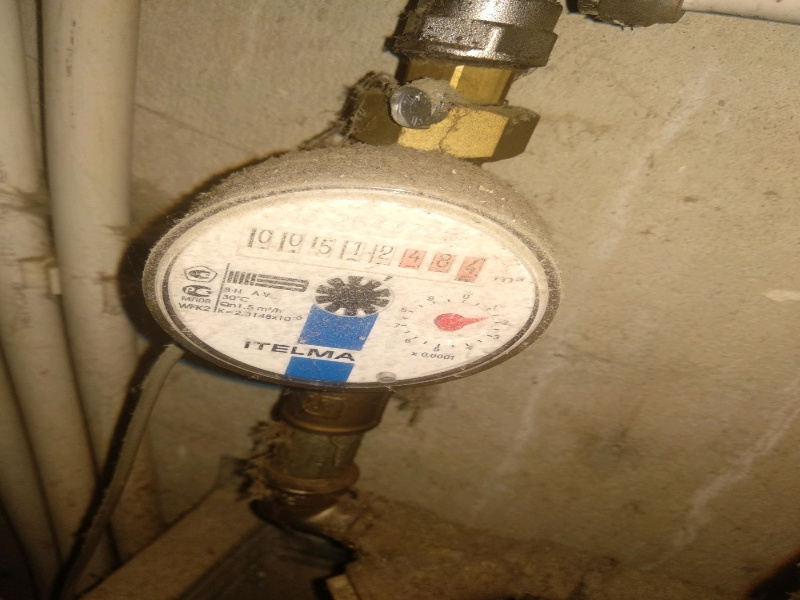meter: (240, 222, 479, 281)
